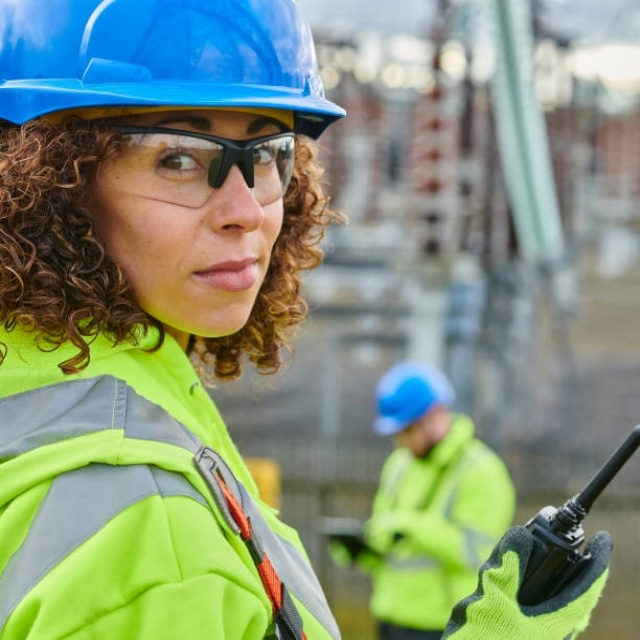Gafas: (105, 123, 296, 213)
Guantes: (444, 519, 619, 639)
Sin_mascara: (162, 237, 273, 328)
